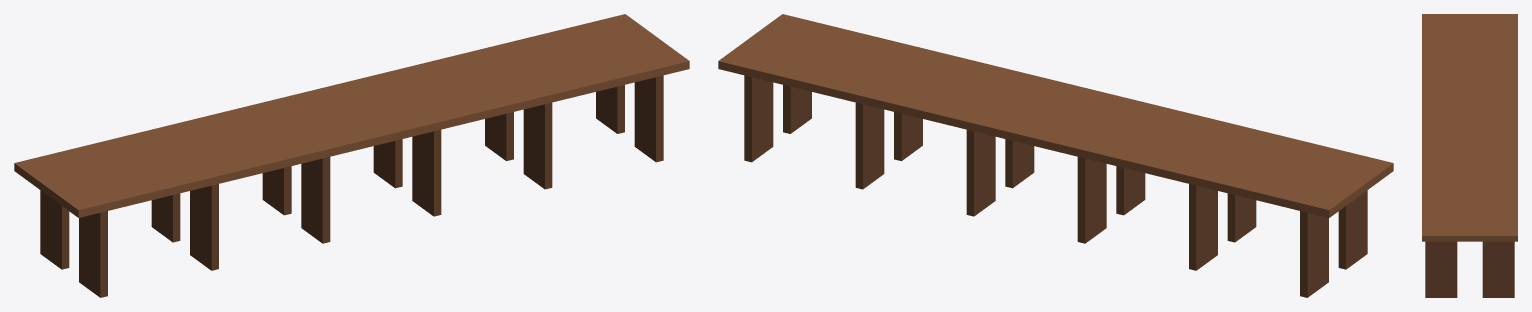
Rendered from DiningTable4.fbx.
3 renders of one model, left to right at view 1: azimuth 30°, elevation 25°; view 2: azimuth 150°, elevation 25°; view 3: azimuth 270°, elevation 25°, orthographic. The views are drawn at different scales.
Visible parts, largest first — view 1: DiningTable4; view 2: DiningTable4; view 3: DiningTable4.
Boxes of the visible parts, bbox=[...] form: DiningTable4: bbox=[14, 14, 689, 297]; DiningTable4: bbox=[718, 14, 1393, 297]; DiningTable4: bbox=[1422, 14, 1517, 297].
Bounding box in the file's own units: 373 × 55.47 × 68.02.
